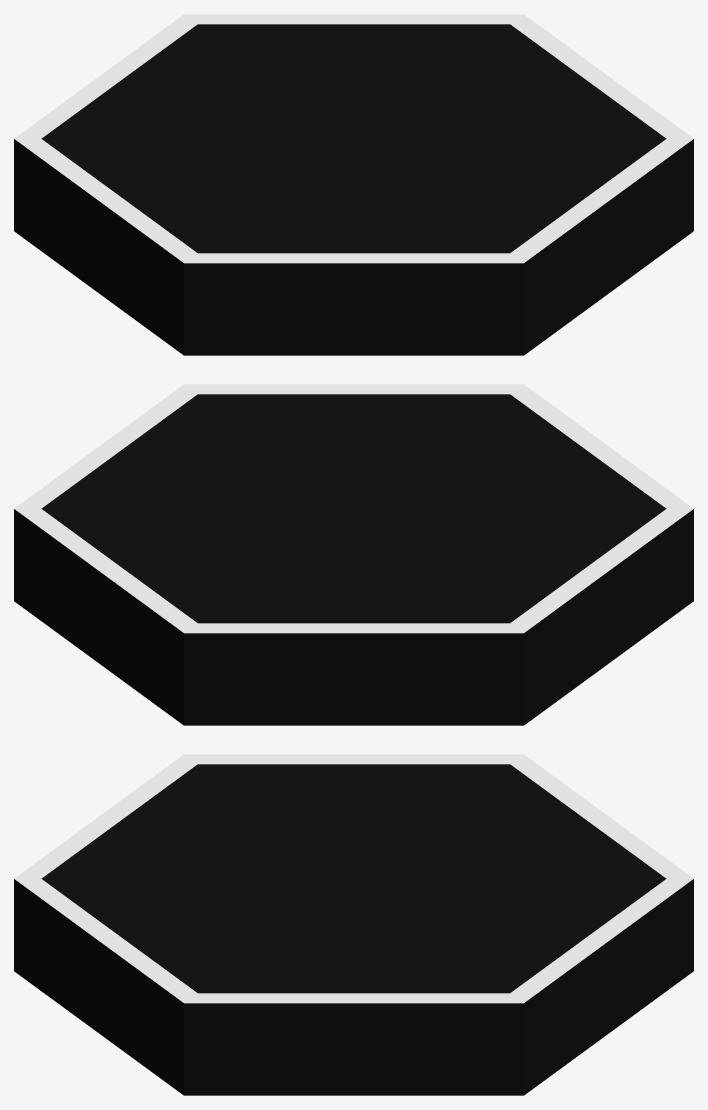
The model's file is 2tile.glb.
The picture shows the model from 3 angles, top to bottom: view 1: azimuth 30°, elevation 25°; view 2: azimuth 150°, elevation 25°; view 3: azimuth 270°, elevation 25°; orthographic projection.
Visible parts, largest first — view 1: ChessTile; view 2: ChessTile; view 3: ChessTile.
Part boxes in pixels (x1,y1,x2,y2): ChessTile: [14, 14, 693, 355]; ChessTile: [14, 384, 693, 725]; ChessTile: [14, 754, 693, 1095].
Size of the model in its own units: 1.73 by 0.3 by 2.
Materials: 1 (1 with a texture image).
